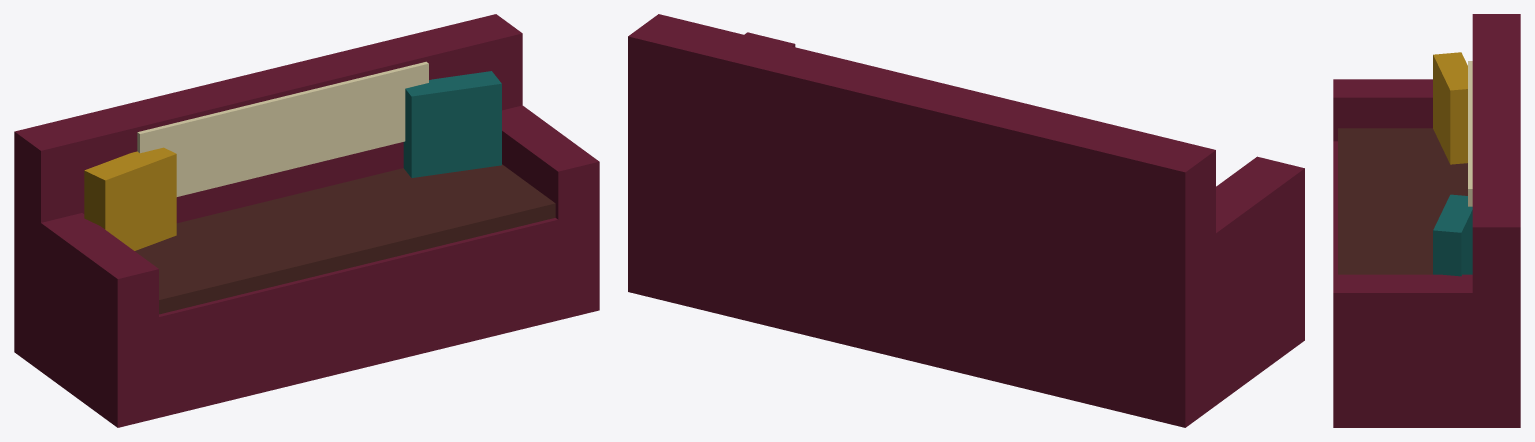
The model's file is prop_sofa.968921819e6e.glb.
The picture shows the model from 3 angles, left to right: view 1: azimuth 30°, elevation 25°; view 2: azimuth 150°, elevation 25°; view 3: azimuth 270°, elevation 25°; orthographic projection. The views are drawn at different scales.
Visible parts, largest first — view 1: body; view 2: body; view 3: body.
Part boxes in pixels (left/top/right/bottom): body: left=14, top=14, right=599, bottom=427; body: left=628, top=14, right=1304, bottom=427; body: left=1333, top=14, right=1520, bottom=427.
Bounding box in the file's own units: 2.1 × 0.92 × 0.78.
